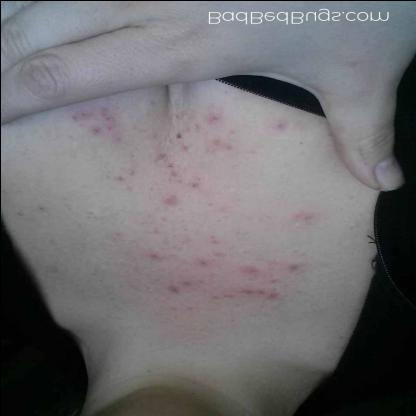Bed Bug: (146, 153, 202, 239), (238, 252, 308, 308), (172, 102, 246, 151), (162, 273, 234, 315), (60, 102, 130, 144), (192, 239, 230, 269), (104, 163, 141, 193), (205, 191, 227, 233), (286, 206, 316, 224), (272, 116, 296, 134), (140, 247, 164, 263)
